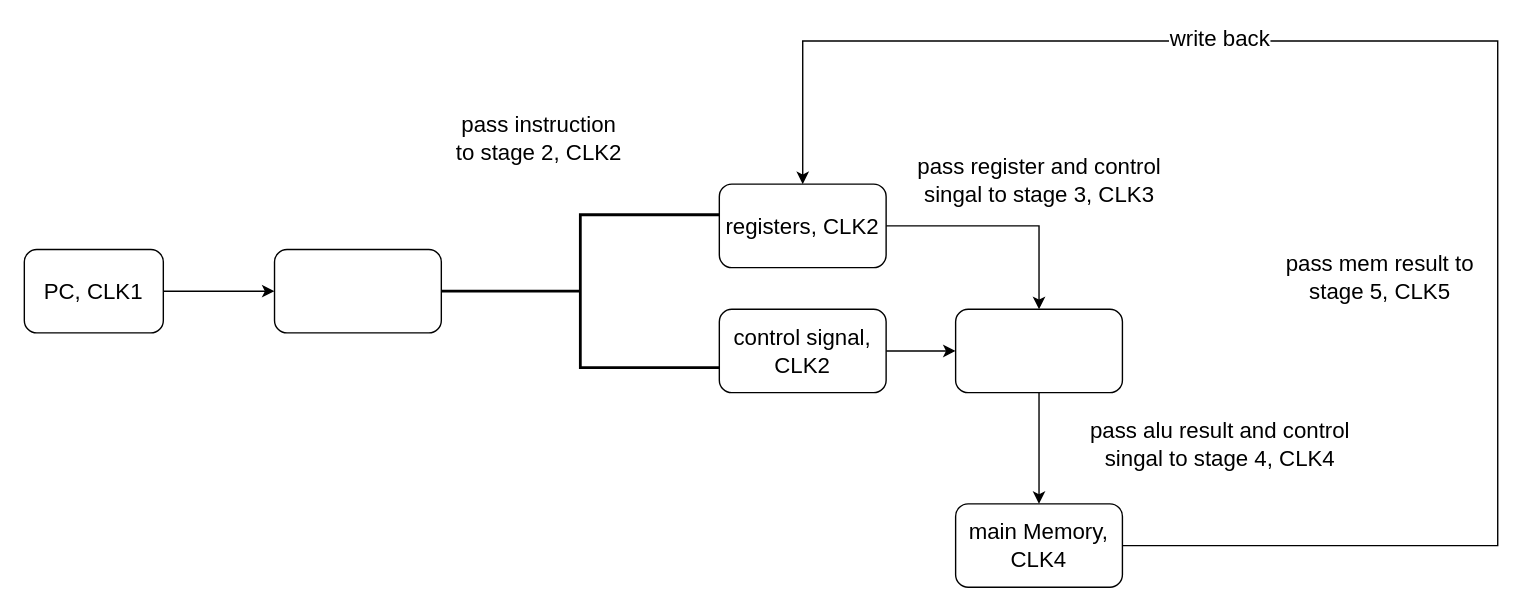
This 1533x612 diagram has some shape labels left out. The shapes that lost their labels are listed below. From the top down, each one's box as (x1, y1, x2, y2) in pixels, then its label:
(273, 248, 441, 333): instruction, CLK1
(954, 308, 1122, 393): alu, CLK3
